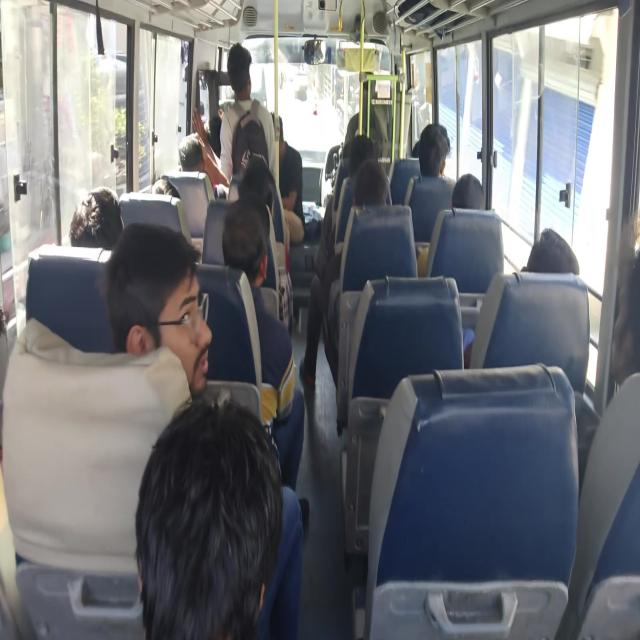person: (140, 428, 314, 632), (88, 219, 207, 334), (532, 218, 601, 348), (65, 189, 130, 279), (612, 240, 640, 399), (214, 41, 270, 104), (221, 205, 262, 287), (446, 161, 494, 230), (261, 78, 297, 158), (226, 169, 282, 220), (361, 184, 411, 240), (419, 131, 455, 191), (350, 138, 381, 206), (154, 164, 188, 224), (175, 131, 220, 172), (404, 134, 429, 166), (243, 151, 267, 181)
